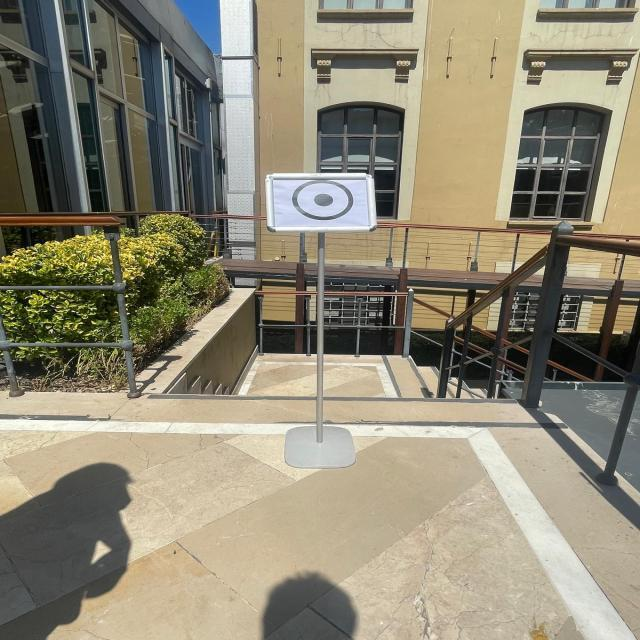Target: (246, 154, 398, 245)
inner: (307, 189, 344, 214)
